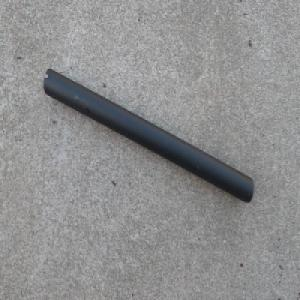LuggagePart: (43, 67, 254, 204)
